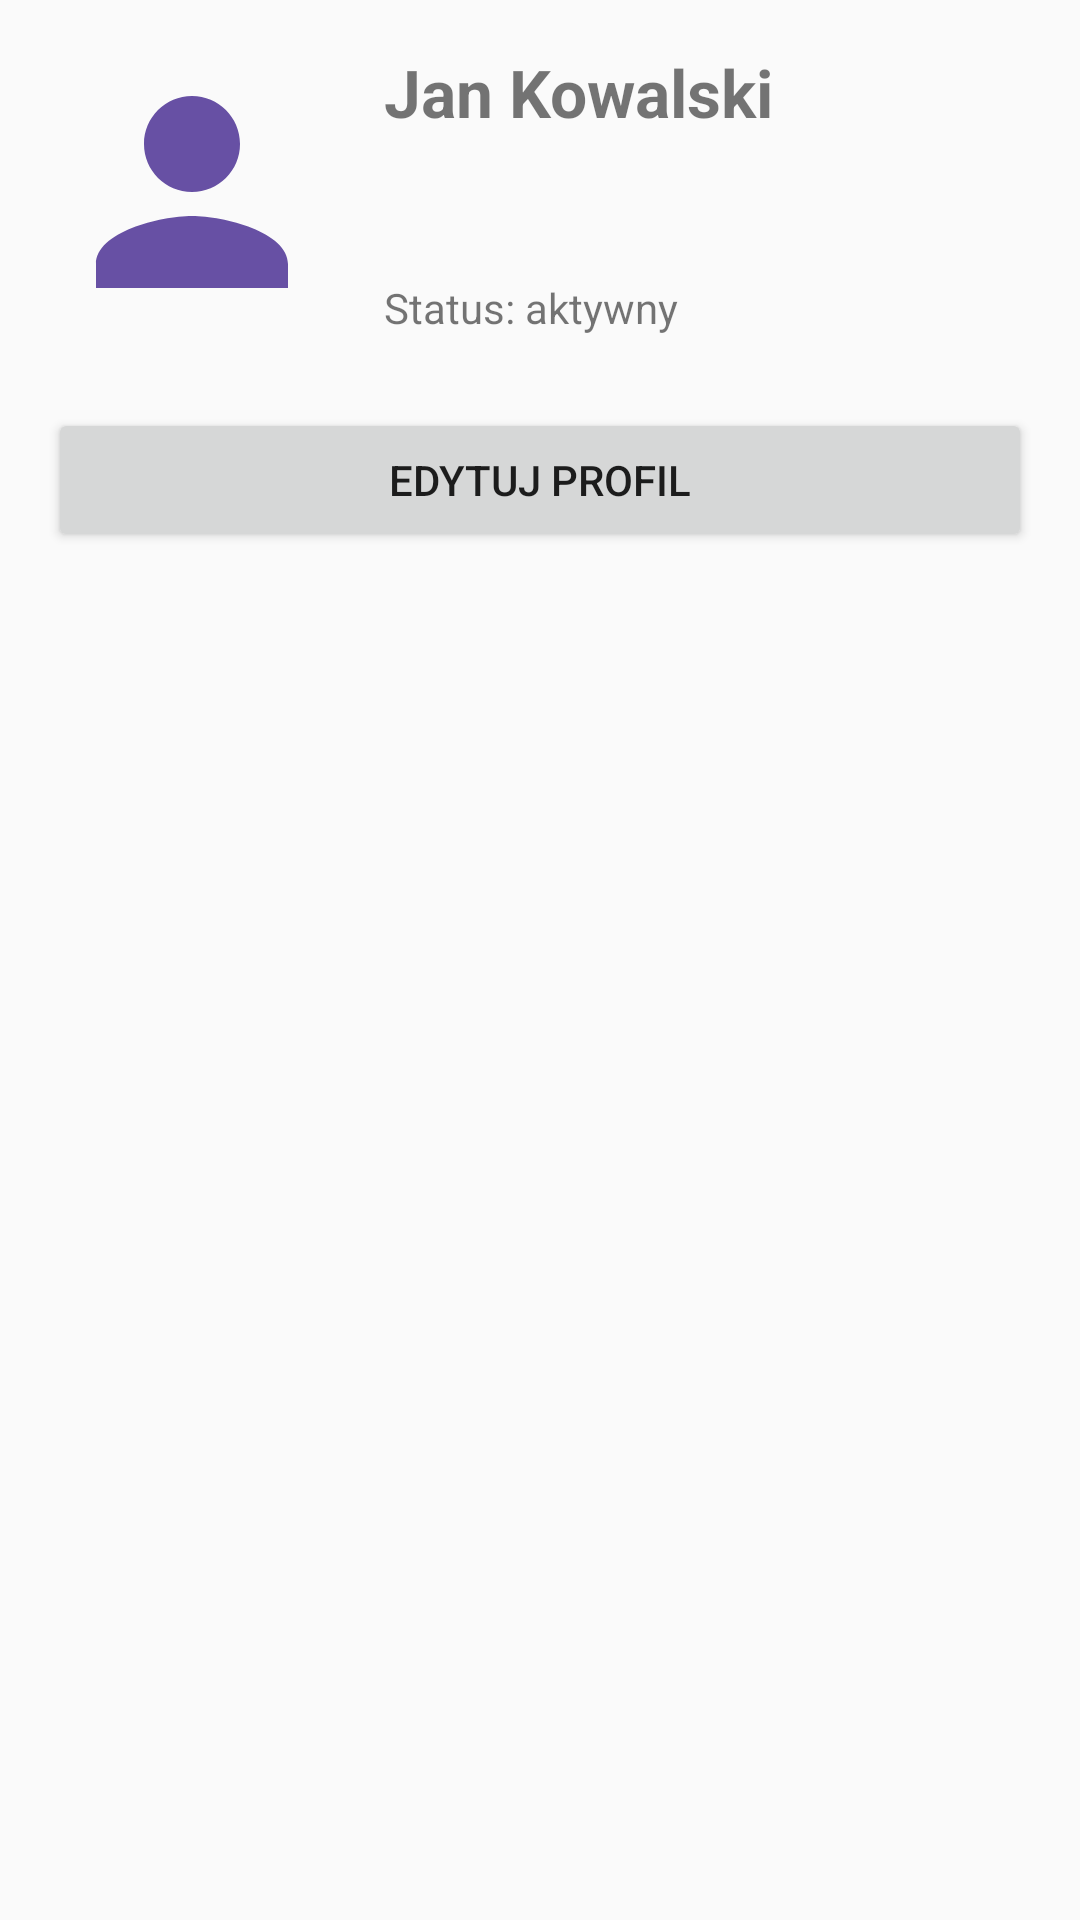

Where to tap for icons on this 1080x1920 app screen, as point (x, y):
Zdjęcie profilowe: point (192, 192)
